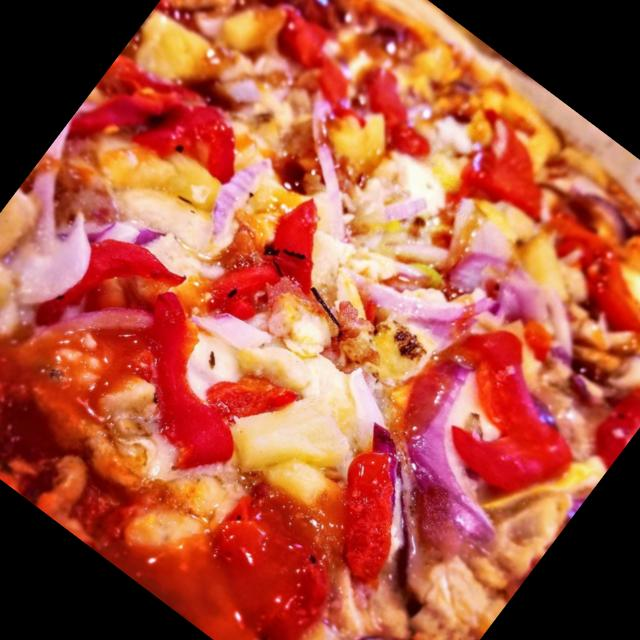peppers: (390, 308, 614, 528), (98, 287, 307, 489), (93, 49, 256, 202), (208, 186, 359, 341), (306, 435, 440, 575), (352, 74, 438, 152), (584, 261, 640, 335)
